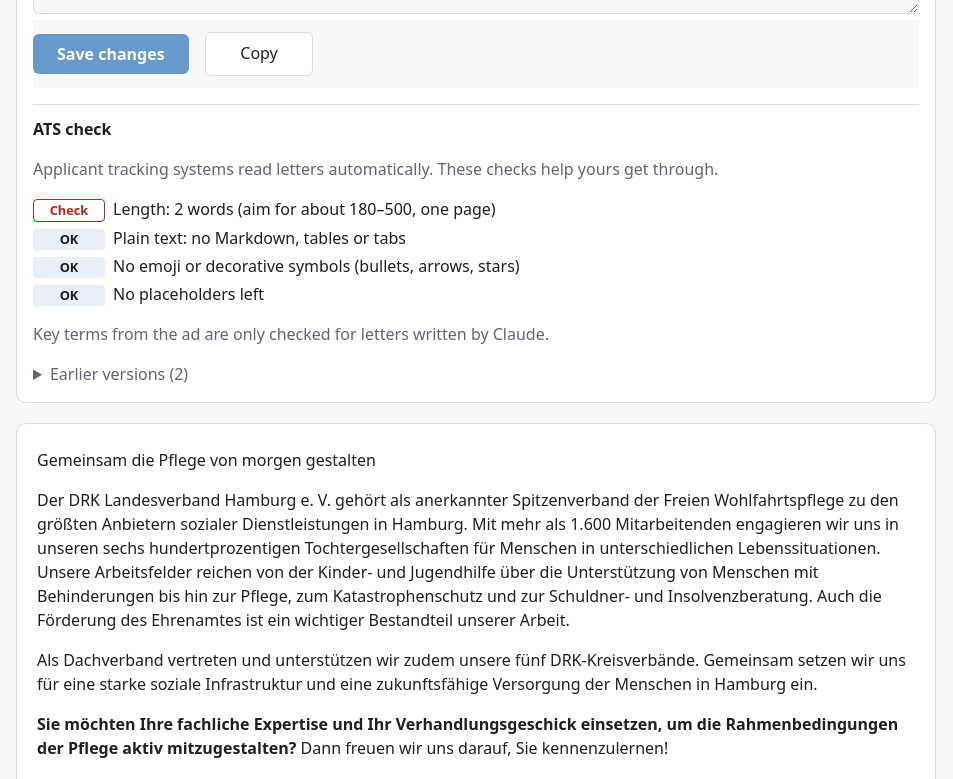
Test case: letter panel › lists earlier versions, newest first, and opens one to continue from it
This screenshot has width=953, height=779.
(page scrolled)
Step 1. Click the heading "Earlier versions (2)" → (119, 374), box x1=50 y1=363 x2=188 y2=385
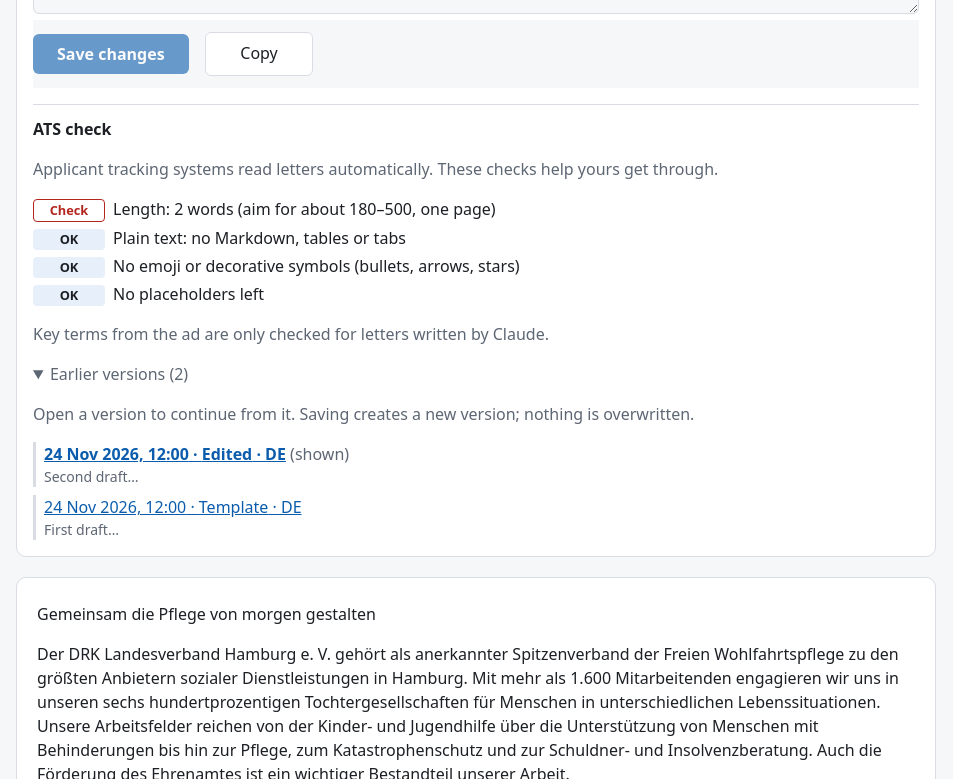
Check: the list item "24 Nov 2026, 12:00 · Edited · DE (shown) Second draft…" is shown, box x1=33 y1=442 x2=919 y2=487
Check: the list item "24 Nov 2026, 12:00 · Template · DE First draft…" is shown, box x1=33 y1=495 x2=919 y2=540
Step 2. Click the button "24 Nov 2026, 12:00 · Template · DE" → (173, 507), box x1=44 y1=495 x2=302 y2=519
(page scrolled)
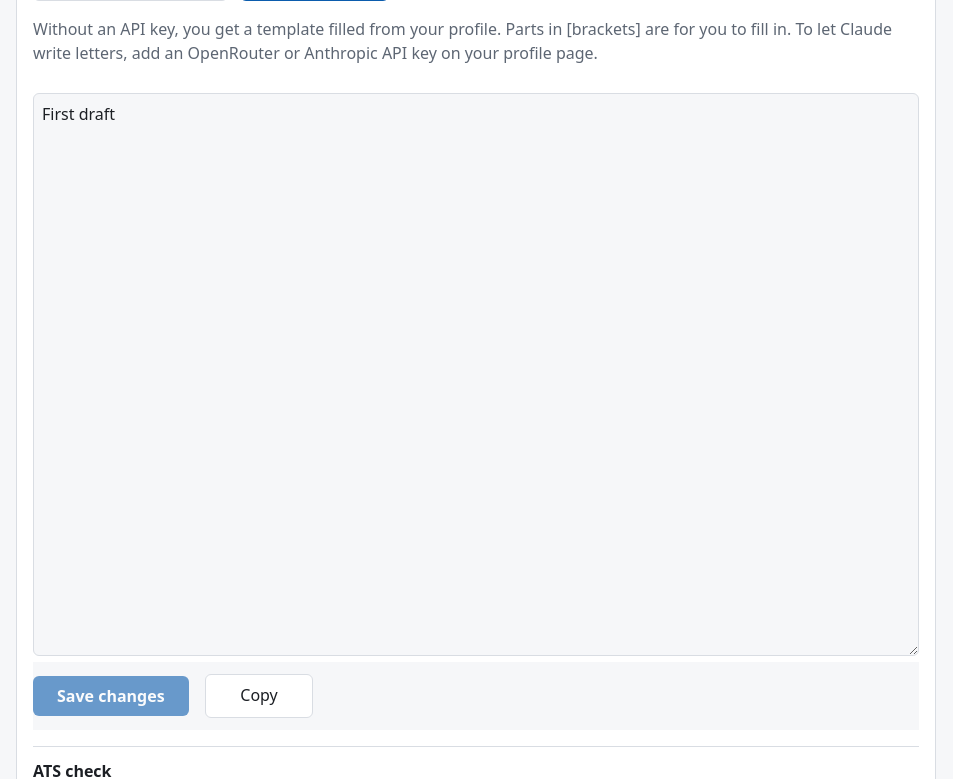
Check: the text box named "Letter text" holds "First draft"
Step 3. Replace the text in the text box named "Letter text" with "First draft, improved" → (476, 374), box x1=33 y1=93 x2=919 y2=656
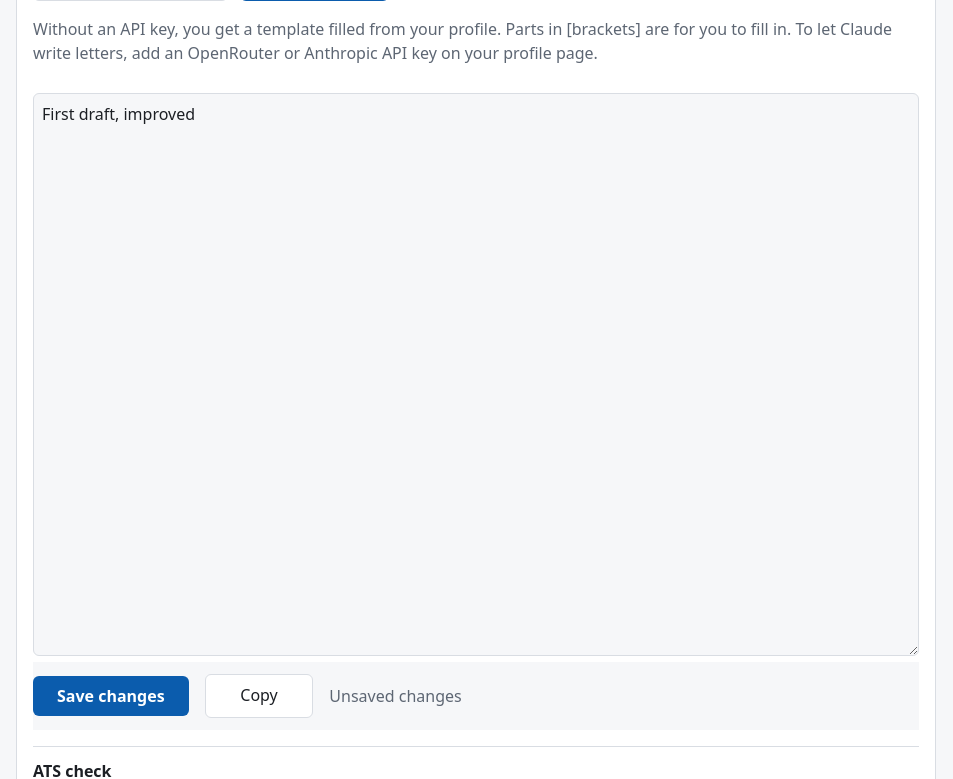
Step 4. Click the button "Save changes" → (111, 696), box x1=33 y1=676 x2=189 y2=716
(page scrolled)
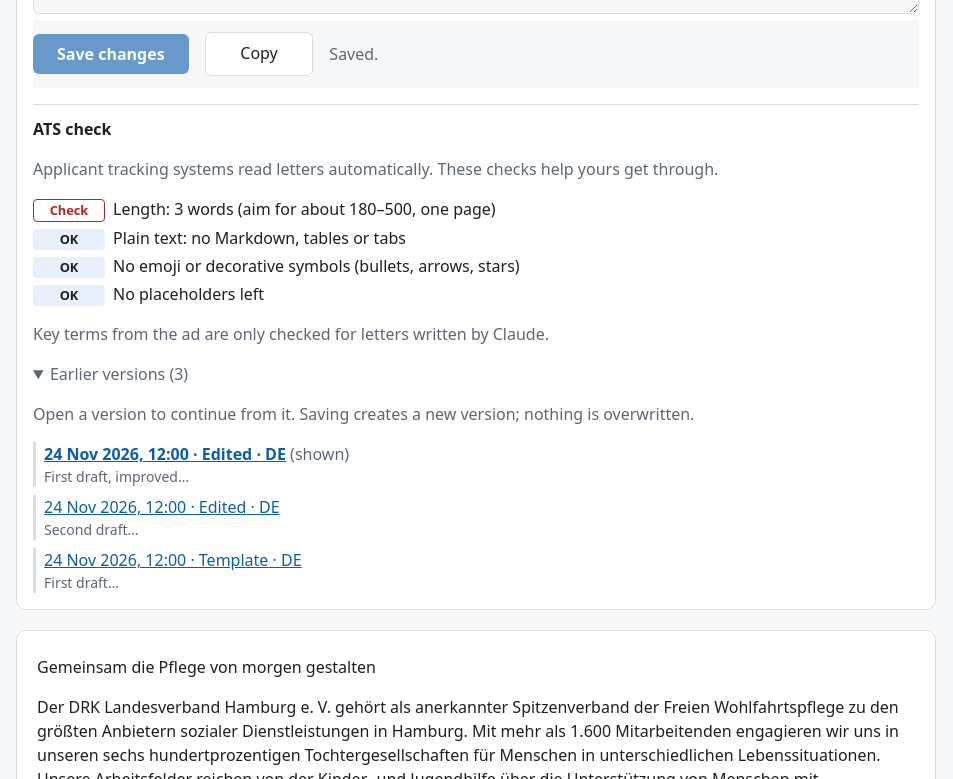
Check: the text "Saved." is shown, box x1=329 y1=42 x2=378 y2=66
Check: the heading "Earlier versions (3)" is shown, box x1=50 y1=363 x2=188 y2=385
